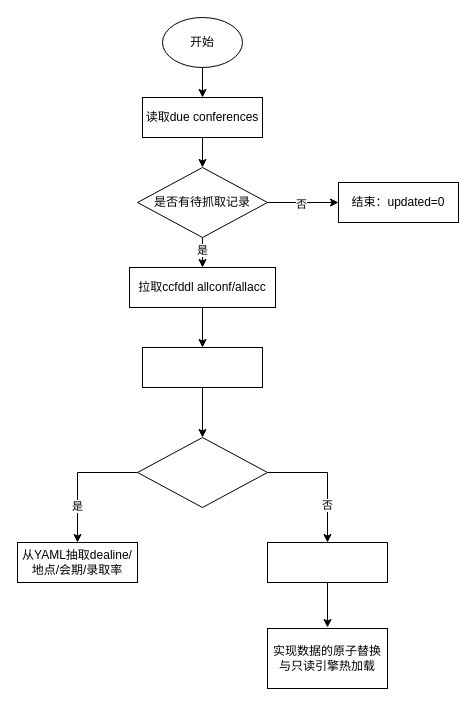
The diagram is 476 pixels wide and 706 high, and some of its shapes have lost their labels. The shapes that lost their labels are listed below. From the top down, each one's centre as x and y in pixels, then its label:
(202,367): 遍历会议
(202,472): ccfddl是否匹配
(327,562): DDG搜索CFP页面
